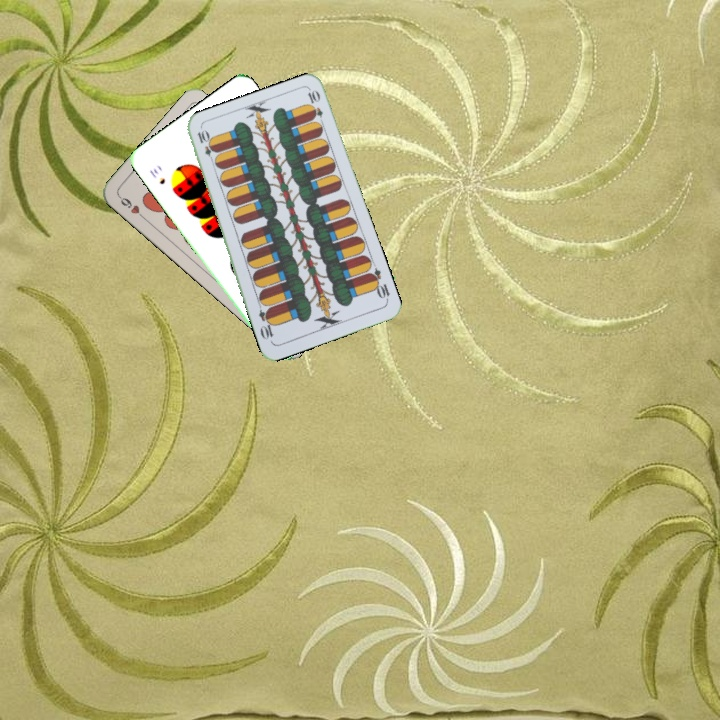E10: (365, 264, 392, 304), (193, 126, 218, 166)
H9: (115, 191, 148, 222)
S10: (145, 164, 168, 187)
